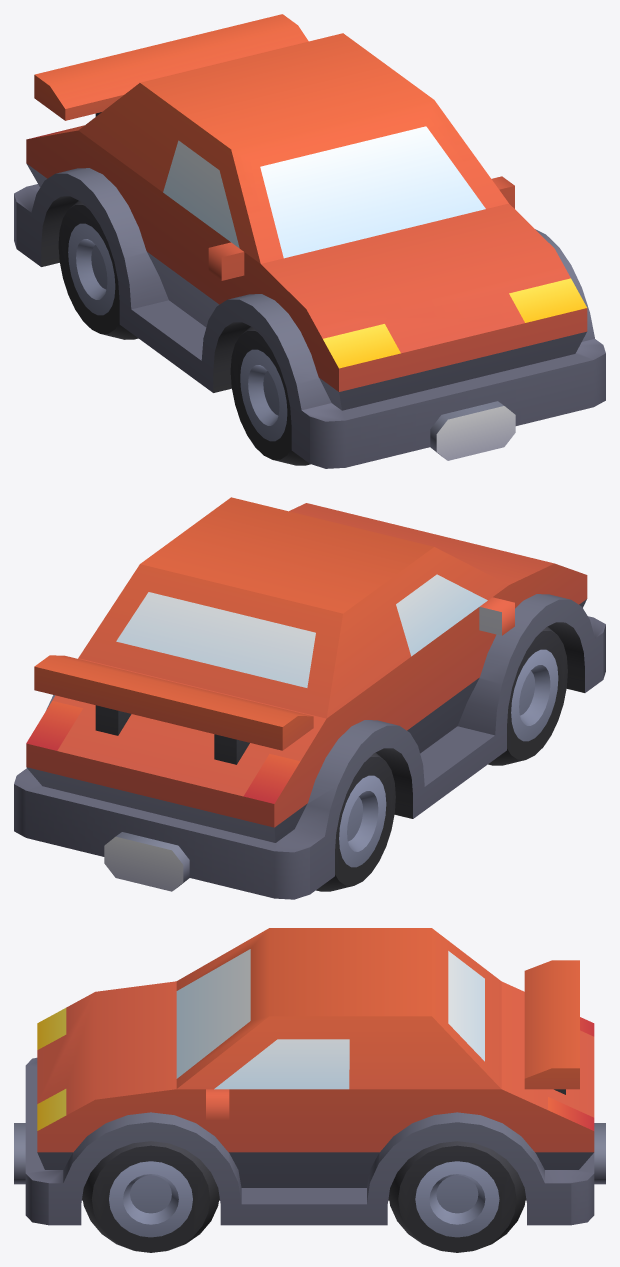
Rendered from sedan-sports.glb.
3 renders of one model, top to bottom at view 1: azimuth 30°, elevation 25°; view 2: azimuth 150°, elevation 25°; view 3: azimuth 270°, elevation 25°, orthographic. The views are drawn at different scales.
Parts seen in each view (by area): view 1: wheel-back-right; view 2: wheel-back-right; view 3: wheel-back-right.
Boxes of the visible parts, x1,y1,x2,y2 form: wheel-back-right: (14,14,605,468); wheel-back-right: (14,497,605,899); wheel-back-right: (14,928,605,1252).
Size of the model in its own units: 1.3 by 1.1 by 2.55.
1 material, 1 textured.
